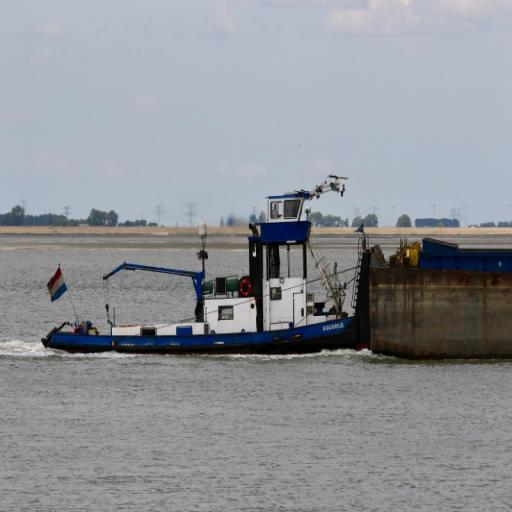tugboat: (38, 171, 378, 372)
